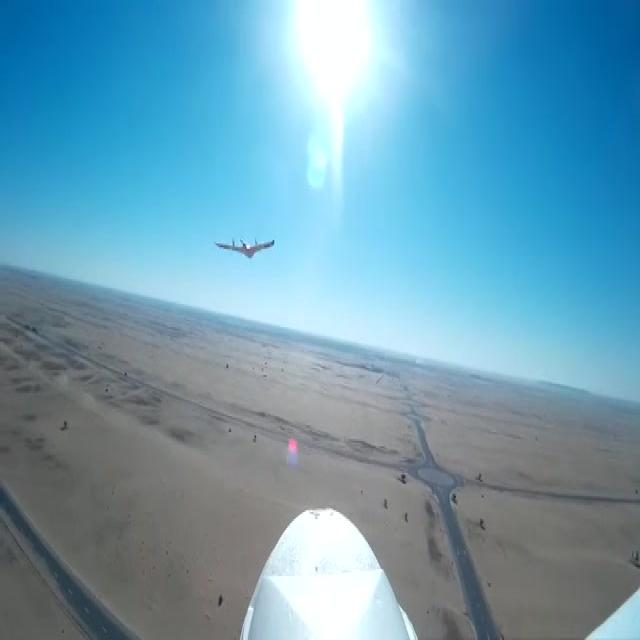iha: (214, 235, 275, 262)
